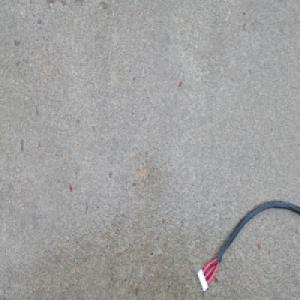Wire: (196, 199, 300, 293)
